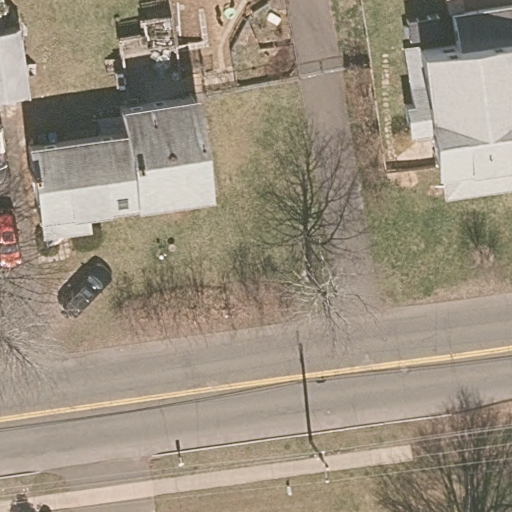DT: (307, 438, 332, 485)
